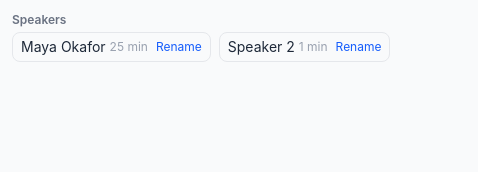
Test case: SpeakerNames › starts from the current name and keeps the field open on an error
Click the button "Rename" in the row of "Maya Okafor".
click(179, 47)  # box [156,39,202,55]
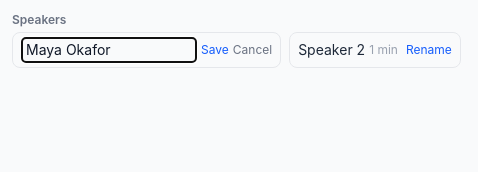
Expected: the field named "Name for Maya Okafor" holds "Maya Okafor", [21,37,197,63]
Click the button "Save".
click(215, 50)  # box [201,42,229,58]
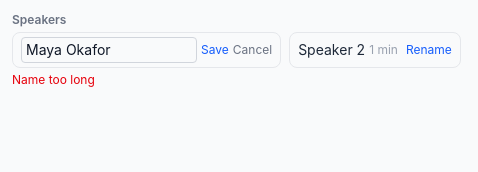
Expected: the field named "Name for Maya Okafor" is shown, [21,37,197,63]
Expected: the text "Name too long" is shown, [12,72,95,87]
